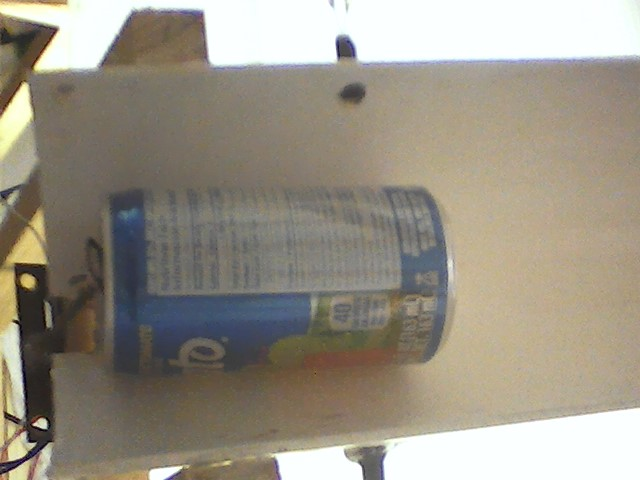lata: (89, 180, 465, 384)
